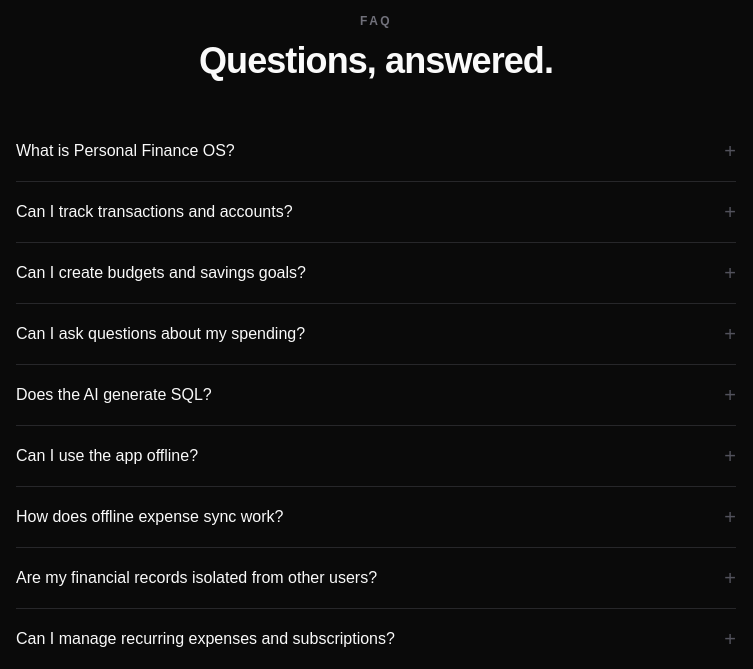
Test case: FAQSection › clicking a question reveals its answer via the native disclosure widget
Step 1. Click the heading "Does the AI generate SQL? +" → [114, 394], box x1=16 y1=381 x2=736 y2=409
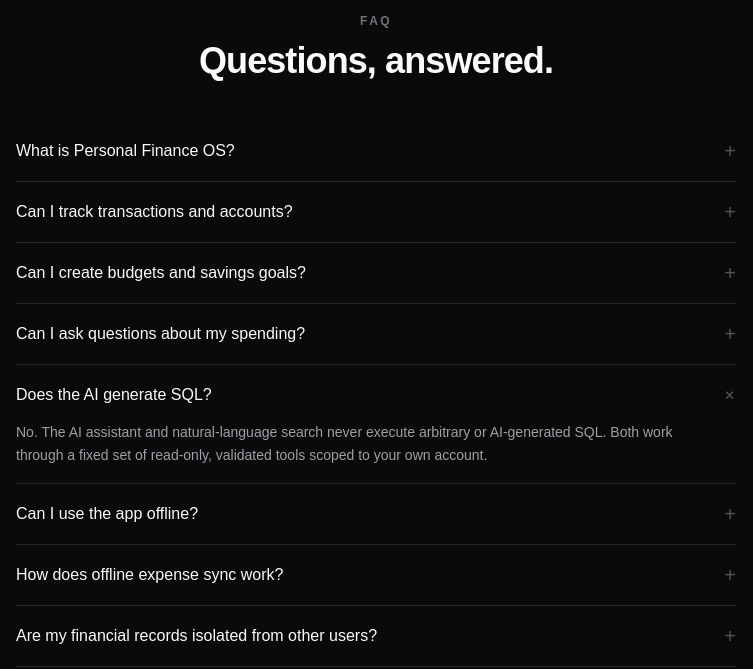
Expected: the text "never execute arbitrary or ai-generated sql" is shown, x1=16 y1=424 x2=673 y2=463
